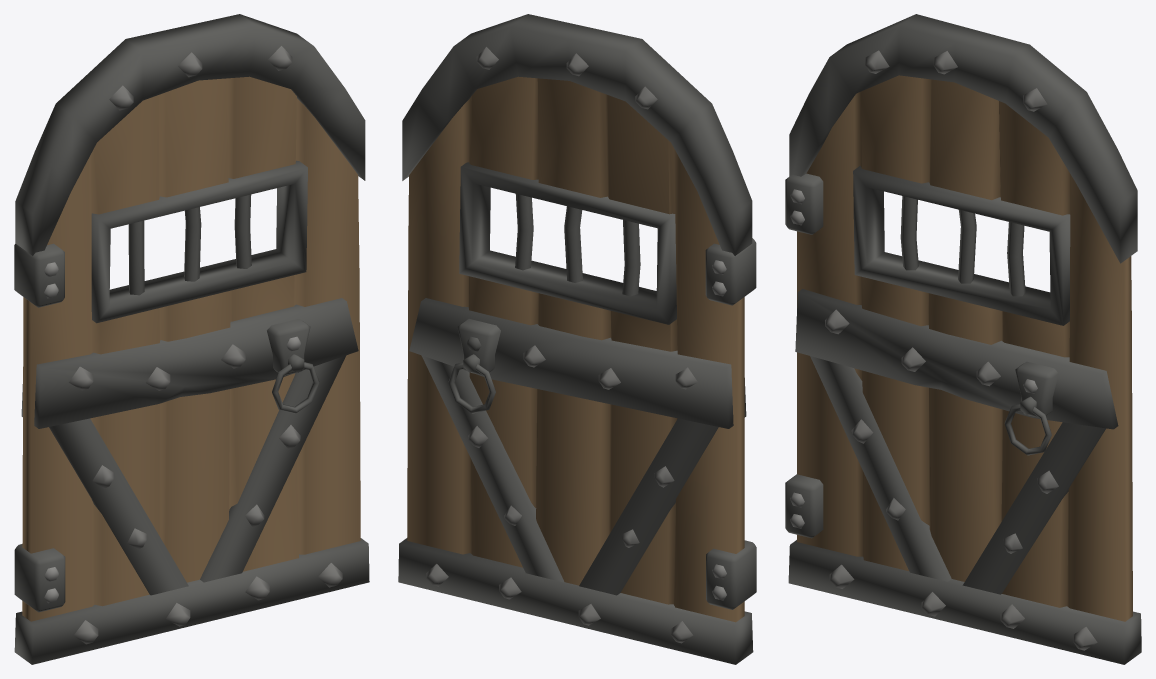
The model's file is rpgpp_ag_door_08a.fbx.
3 views of the same model, side by side, from view 1: azimuth 30°, elevation 25°; view 2: azimuth 150°, elevation 25°; view 3: azimuth 330°, elevation 25° (orthographic).
Visible parts, largest first — view 1: rpgpp_ag_door_08a; view 2: rpgpp_ag_door_08a; view 3: rpgpp_ag_door_08a.
Part boxes in pixels (x1,y1,x2,y2): rpgpp_ag_door_08a: (14,14,369,664); rpgpp_ag_door_08a: (398,14,756,664); rpgpp_ag_door_08a: (785,14,1141,664).
Bounding box in the file's own units: 1.49 × 2.47 × 0.3441.
